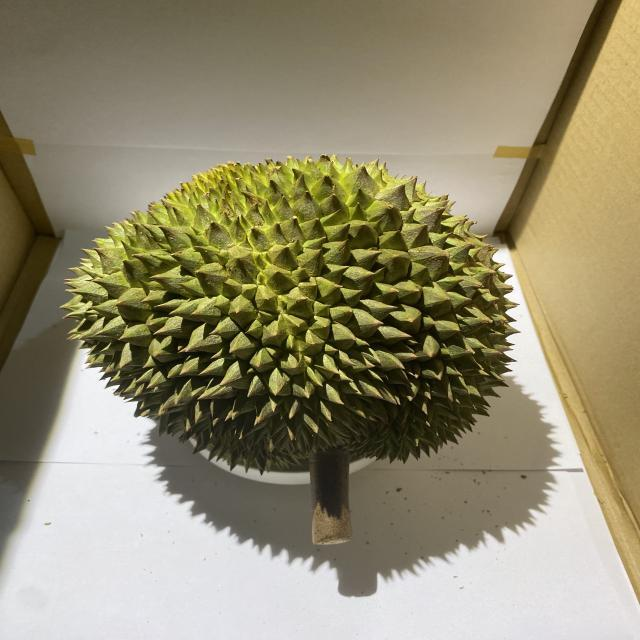immature: (57, 155, 521, 475)
